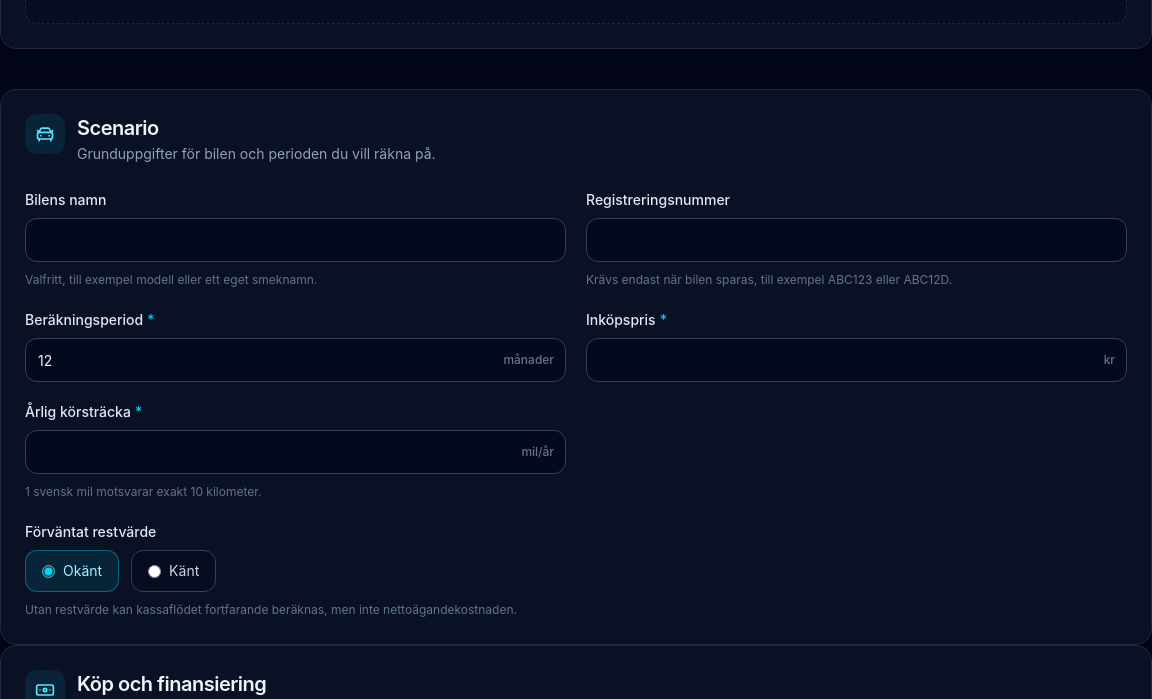
Test: ManualCalculatorPage › maps server validation to Swedish field errors and preserves input
(page scrolled)
In the field labelled "Inköpspris*": (856, 360) [586, 338, 1127, 382], type "20000"
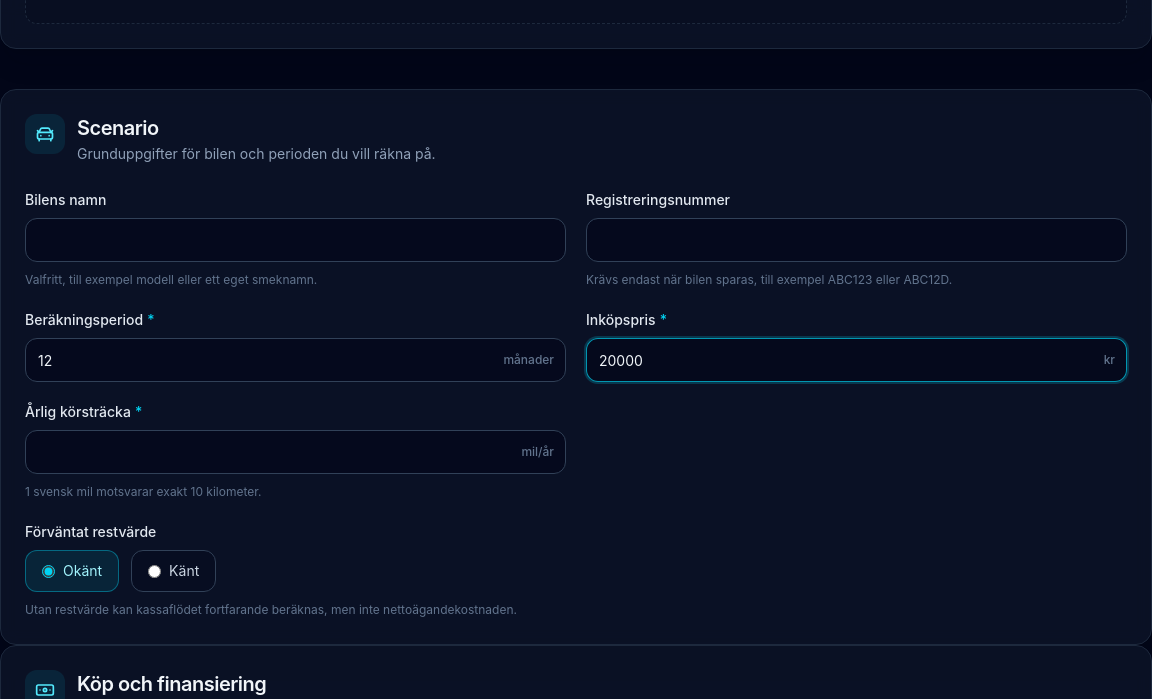
In the field labelled "Årlig körsträcka*": (296, 452) [25, 430, 566, 474], type "0"
(page scrolled)
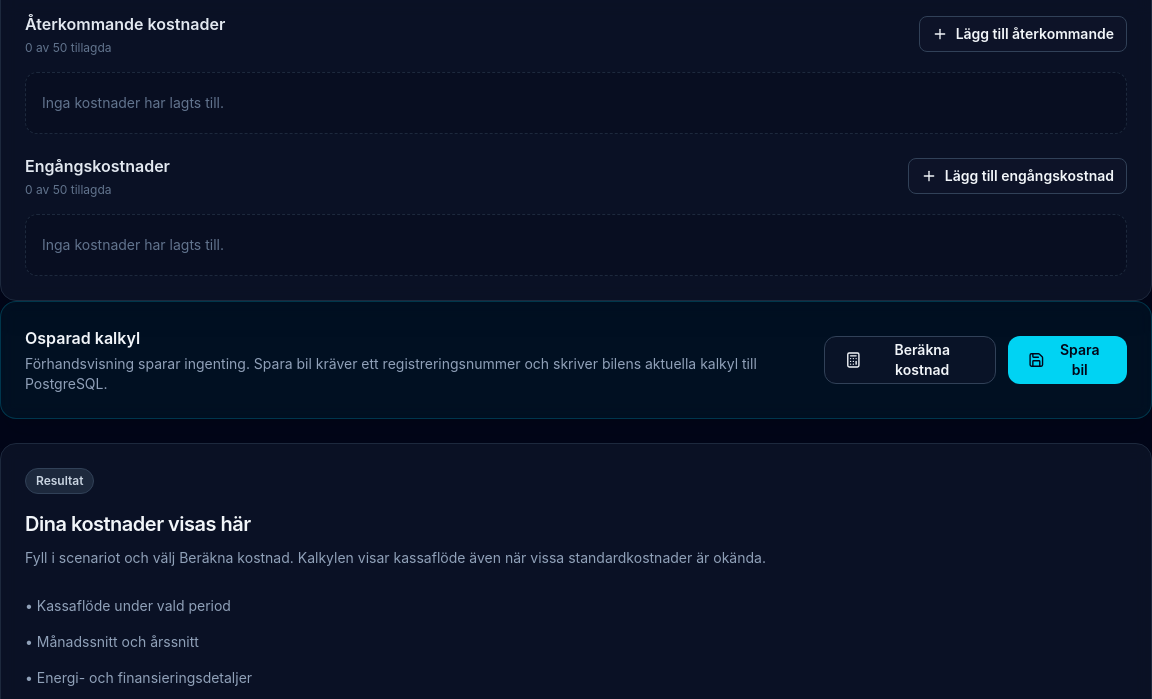
Click the button "Beräkna kostnad": (910, 360) [824, 336, 996, 384]
(page scrolled)
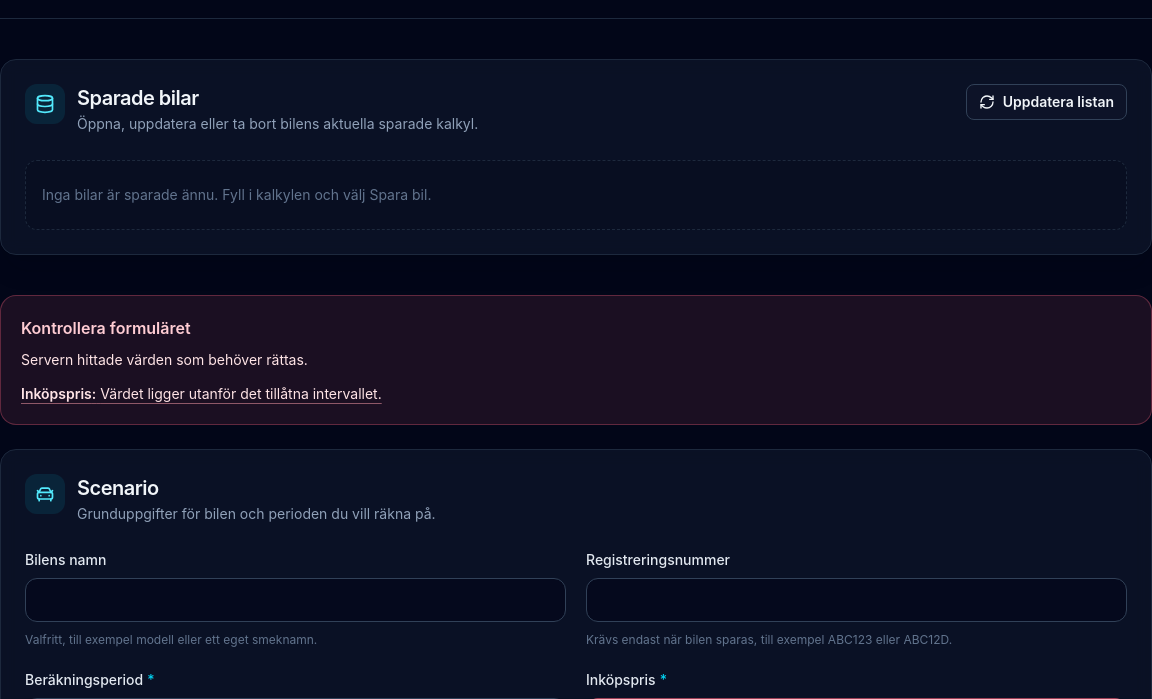
Now the link "Värdet ligger utanför det tillåtna intervallet." is shown, box [21, 385, 382, 402]
Now the text "Servern hittade värden som behöver rättas." is shown, box [21, 351, 308, 368]
